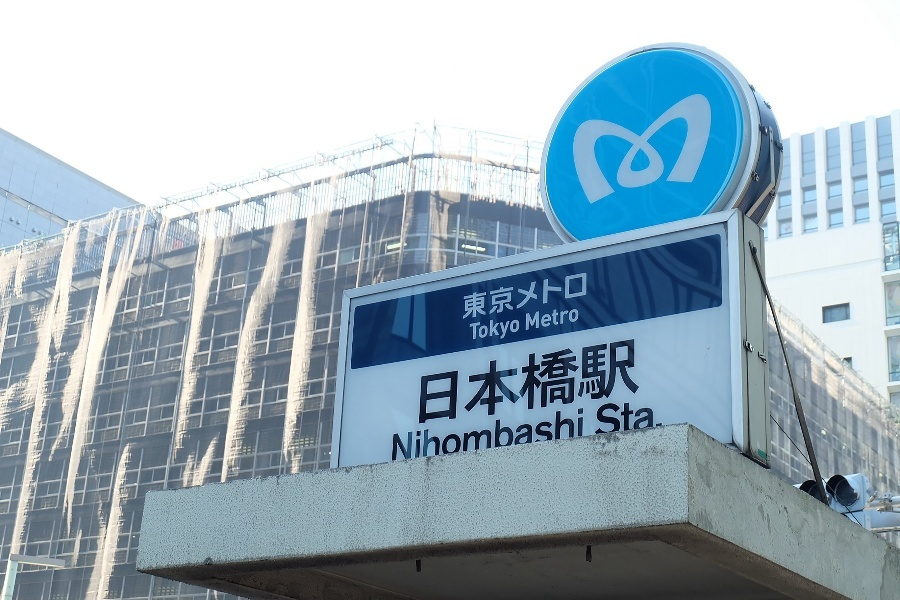text: (433, 333, 448, 426), (449, 333, 464, 426), (465, 333, 480, 426), (481, 333, 496, 426), (497, 333, 512, 426), (513, 333, 528, 426), (529, 333, 544, 426), (545, 333, 560, 426), (561, 333, 576, 426), (577, 333, 592, 426), (593, 333, 608, 426), (609, 333, 624, 426), (625, 333, 639, 426), (421, 333, 432, 426), (401, 408, 416, 462), (417, 408, 432, 462), (433, 408, 448, 462), (449, 408, 464, 462), (465, 408, 480, 462), (481, 408, 496, 462), (497, 408, 512, 462), (513, 408, 528, 462), (529, 408, 544, 462), (545, 408, 560, 462), (561, 408, 576, 462), (465, 271, 480, 320), (481, 271, 496, 320), (497, 271, 512, 320), (513, 271, 528, 320), (529, 271, 544, 320), (545, 271, 560, 320), (561, 271, 576, 320), (609, 399, 624, 436), (625, 399, 640, 436), (641, 399, 656, 436), (577, 271, 587, 320), (595, 399, 608, 436), (481, 317, 496, 344), (497, 317, 512, 344), (393, 408, 400, 462), (577, 408, 584, 462), (529, 307, 544, 331), (545, 307, 560, 331), (561, 307, 576, 331), (469, 317, 480, 344), (657, 399, 663, 436), (513, 317, 520, 344), (463, 271, 464, 320), (526, 307, 528, 331), (577, 307, 579, 331)
